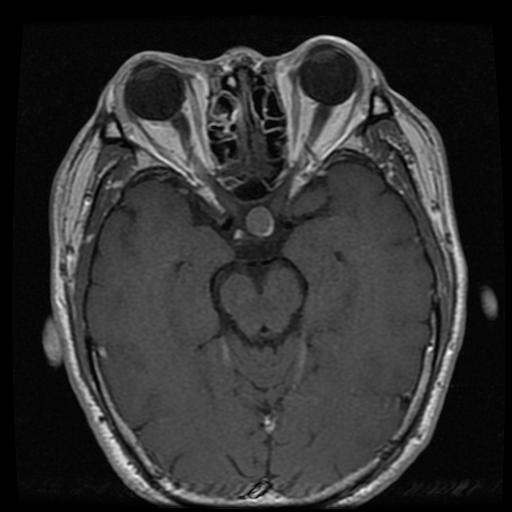Pituirity_tumour: (246, 205, 272, 235)
